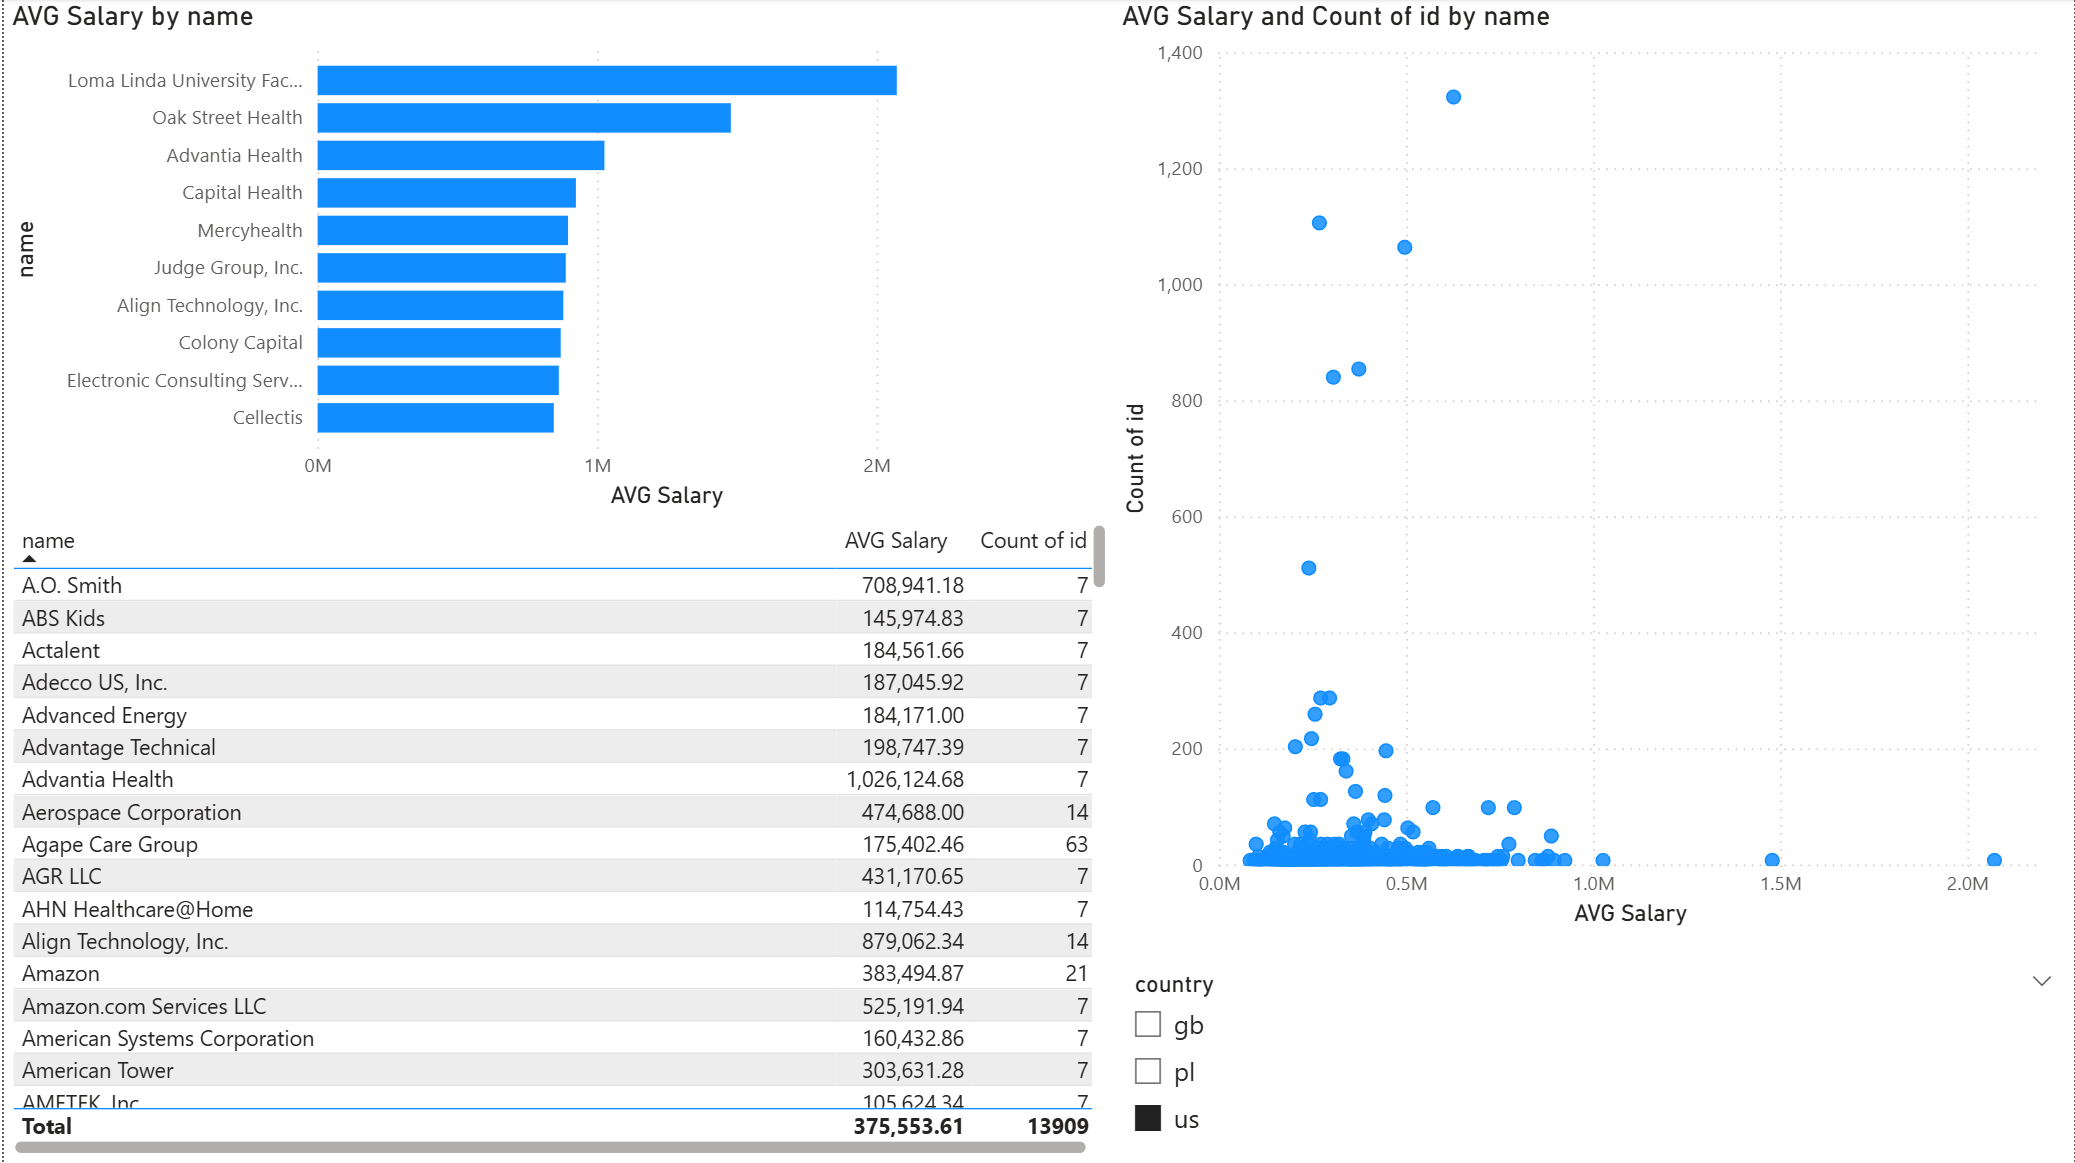

What the dashboard file says about the page in this screenshot:
{"tool":"powerbi","page":{"name":"Top Companies","canvas":[1280,720],"ordinal":1},"visuals":[{"type":"clusteredBarChart","fields":{"Category":["dim_companies.name"],"Y":["fact_offers.AVG Salary"]},"box":[0,0,640.2,319.8],"z":0},{"type":"slicer","fields":{"Values":["dim_locations.country"]},"box":[686.6,596.3,593.2,123.7],"z":1000},{"type":"scatterChart","fields":{"Category":["dim_companies.name"],"X":["fact_offers.AVG Salary"],"Y":["CountNonNull(fact_offers.id)"]},"box":[686.6,0,593.2,578.4],"z":2000},{"type":"tableEx","fields":{"Values":["dim_companies.name","fact_offers.AVG Salary","CountNonNull(fact_offers.id)"]},"box":[0,319.8,686.6,400.2],"z":3000}]}

Visuals, with their boxes in screenshot pixels (x1, y1, x2, y2), scaled from the page's 1280x720 canvas onto the 2075x1163 screenshot:
clusteredBarChart - dim_companies.name x fact_offers.AVG Salary: <bbox>0, 0, 1038, 517</bbox>
slicer - dim_locations.country: <bbox>1113, 963, 2074, 1162</bbox>
scatterChart - dim_companies.name x fact_offers.AVG Salary: <bbox>1113, 0, 2074, 934</bbox>
tableEx - dim_companies.name x fact_offers.AVG Salary: <bbox>0, 517, 1113, 1162</bbox>
